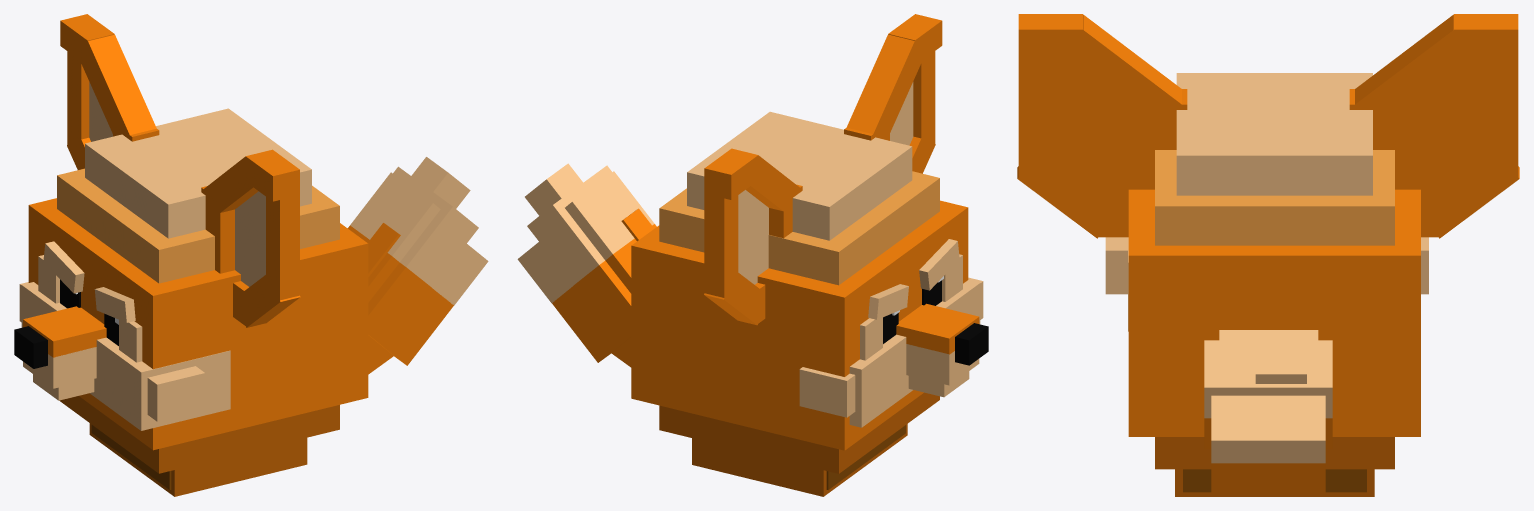
The model's file is egg_fennec_fox.obj.
3 views of the same model, side by side, from view 1: azimuth 30°, elevation 25°; view 2: azimuth 150°, elevation 25°; view 3: azimuth 270°, elevation 25° (orthographic). The views are drawn at different scales.
Parts seen in each view (by area): view 1: E3, E2U, E1U, E2D, E1D; view 2: E3, E2U, E1U, E2D, E1D; view 3: E3, E2U, E1U, E2D, E1D.
Part boxes in pixels (x1,y1,x2,y2): E3: (14, 157, 488, 450); E2U: (57, 14, 339, 327); E1U: (85, 108, 311, 238); E2D: (59, 396, 339, 473); E1D: (89, 423, 307, 496); E3: (517, 163, 988, 450); E2U: (659, 14, 942, 325); E1U: (687, 111, 912, 240); E2D: (659, 392, 939, 473); E1D: (692, 424, 907, 496); E3: (1105, 189, 1428, 493); E2U: (1017, 14, 1519, 245); E1U: (1176, 73, 1372, 195); E2D: (1155, 437, 1394, 469); E1D: (1175, 469, 1374, 496).
Size of the model in its own units: 10.72 by 8.39 by 8.98.
